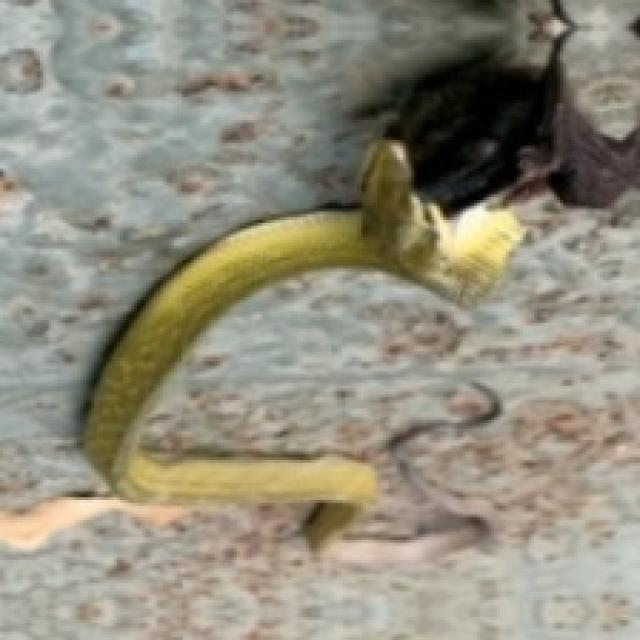red-tailed green ratsnake: (84, 140, 522, 564)
